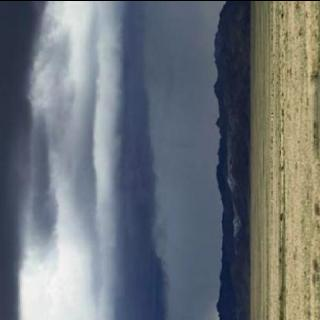Nimbostratus: (0, 0, 211, 320)
